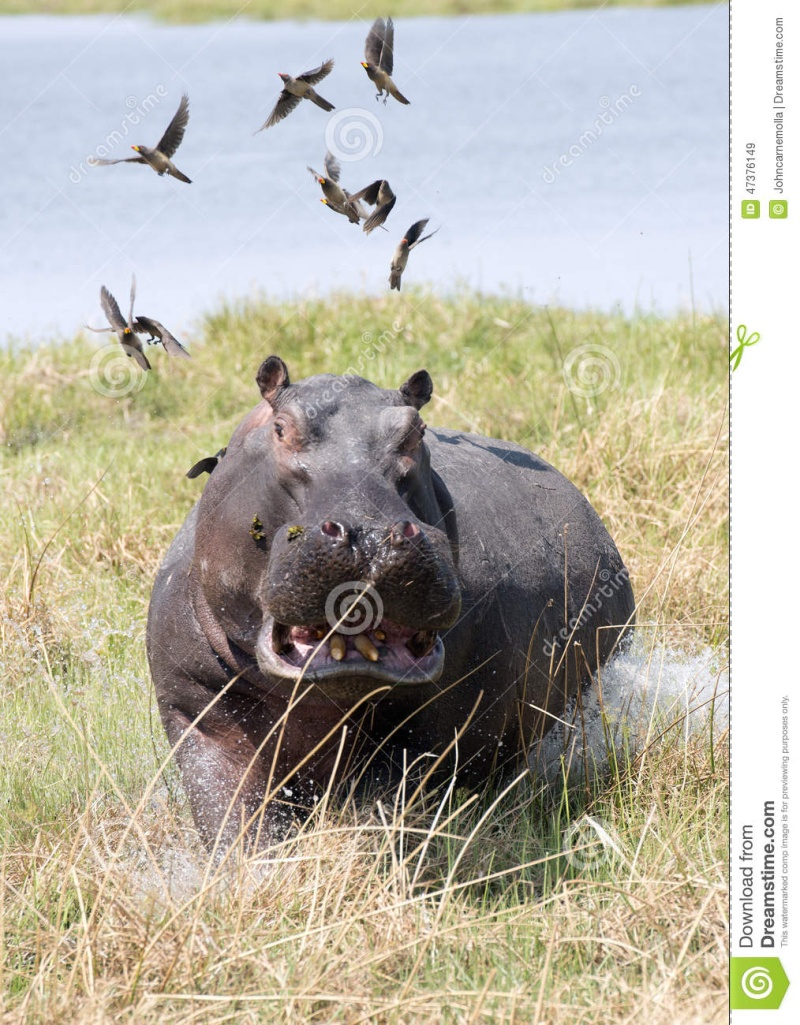hipopotamo: (118, 336, 659, 943)
